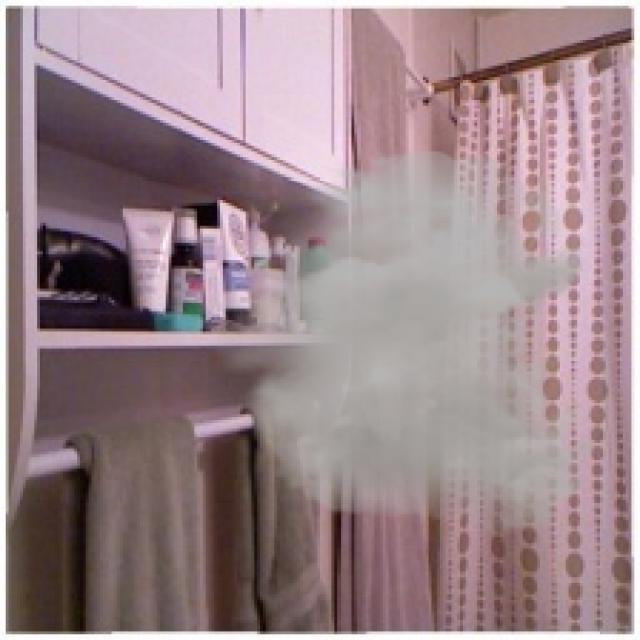Smoke: (194, 152, 597, 534)
